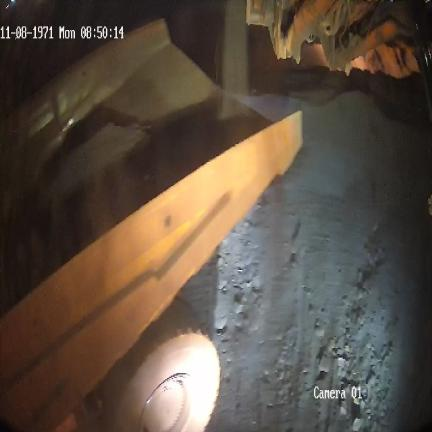pile: (42, 107, 142, 218)
